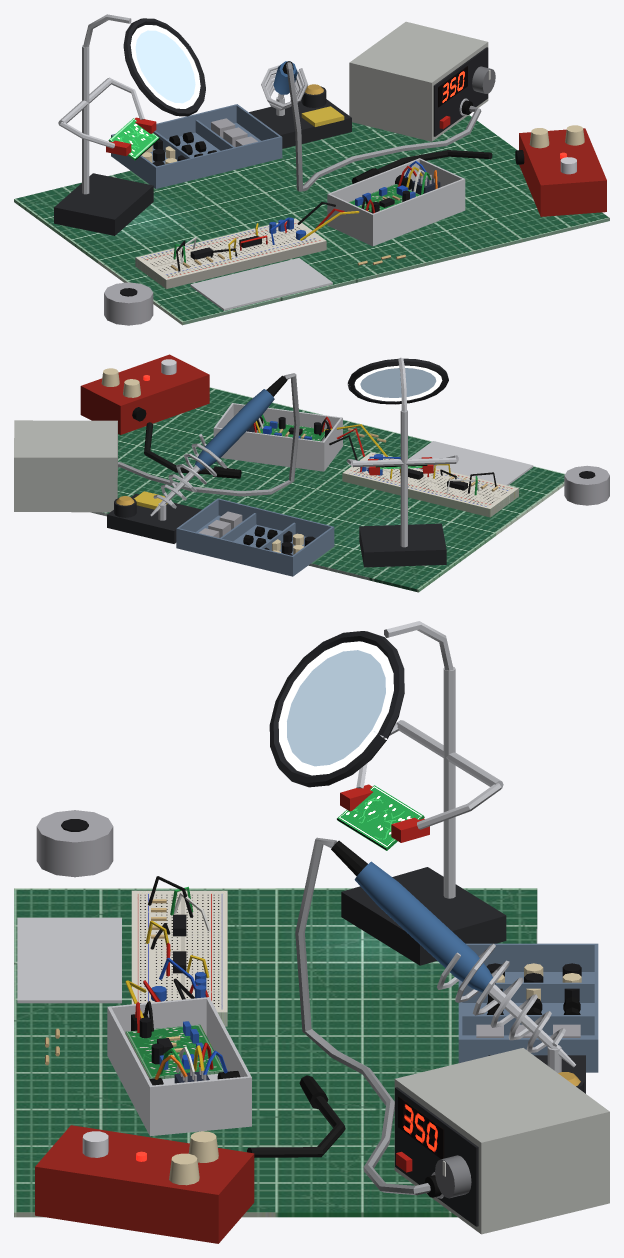
The model's file is pedal-corner.glb.
3 renders of one model, top to bottom at view 1: azimuth 30°, elevation 25°; view 2: azimuth 150°, elevation 25°; view 3: azimuth 270°, elevation 25°, orthographic. The views are drawn at different scales.
Parts seen in each view (by area): view 1: pedalcorner; view 2: pedalcorner; view 3: pedalcorner.
Part boxes in pixels (<box>): pedalcorner: <box>14,14,609,325</box>; pedalcorner: <box>14,354,609,592</box>; pedalcorner: <box>14,621,609,1243</box>.
Bounding box in the file's own units: 0.5394 × 0.1994 × 0.3417.
Materials: 1 (1 with a texture image).
